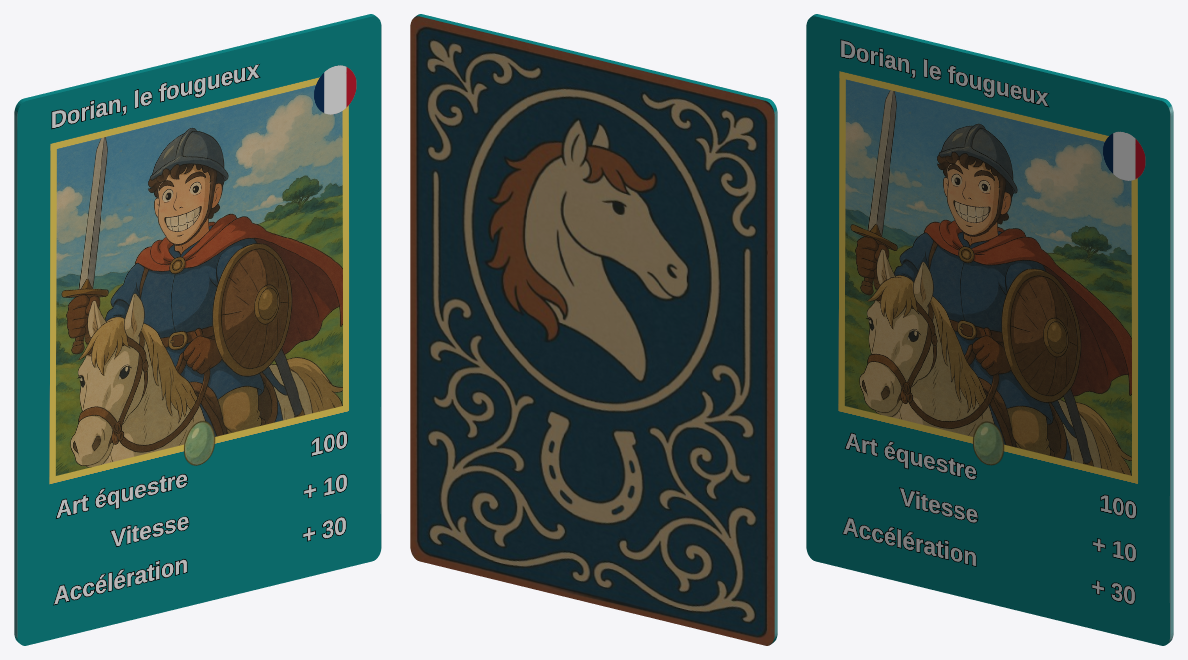
Rendered from Dorian.glb.
3 renders of one model, left to right at view 1: azimuth 30°, elevation 25°; view 2: azimuth 150°, elevation 25°; view 3: azimuth 330°, elevation 25°, orthographic.
Visible parts, largest first — view 1: Plane; view 2: Plane; view 3: Plane.
Boxes of the visible parts, x1,y1,x2,y2 form: Plane: (14,14,381,645); Plane: (410,14,777,645); Plane: (806,14,1173,645).
Bounding box in the file's own units: 3.5 × 5 × 0.05.
2 materials, 2 textured.
